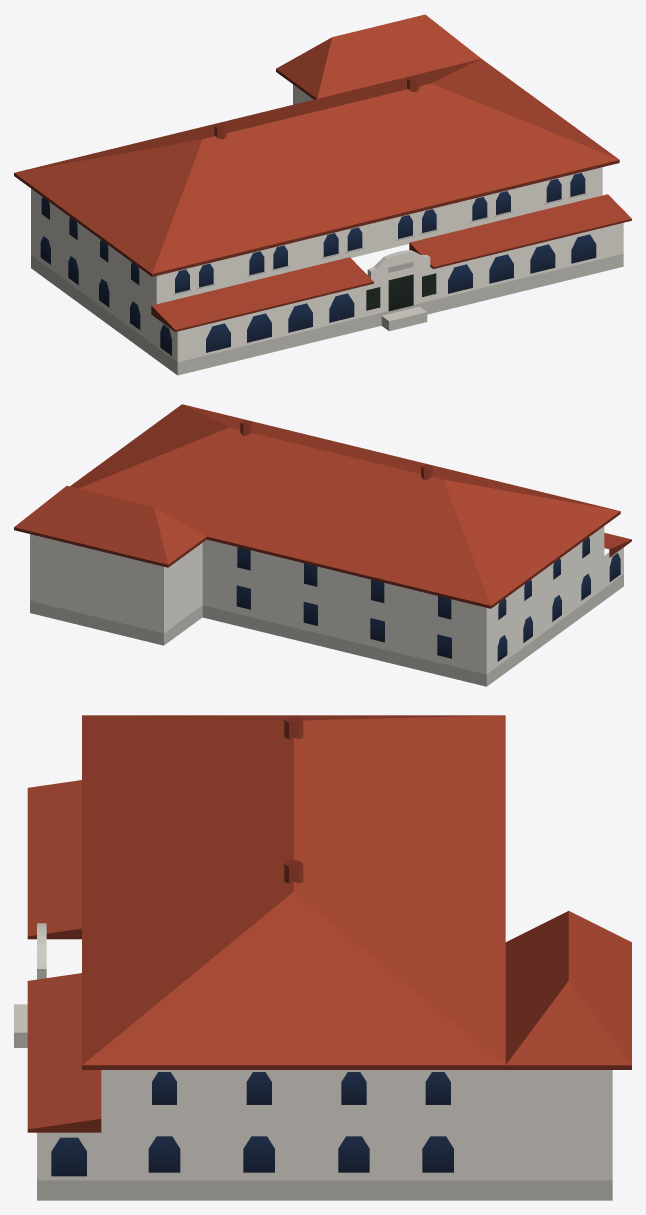
Rendered from hale.glb.
3 renders of one model, top to bottom at view 1: azimuth 30°, elevation 25°; view 2: azimuth 150°, elevation 25°; view 3: azimuth 270°, elevation 25°, orthographic. The views are drawn at different scales.
Visible parts, largest first — view 1: Hale; view 2: Hale; view 3: Hale.
Part boxes in pixels (<box>): Hale: <box>14,14,631,375</box>; Hale: <box>14,404,631,686</box>; Hale: <box>14,715,631,1200</box>.
Bounding box in the file's own units: 39.32 × 12.68 × 29.35.
